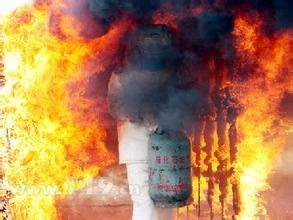fire: (0, 15, 117, 209), (189, 15, 293, 215)
